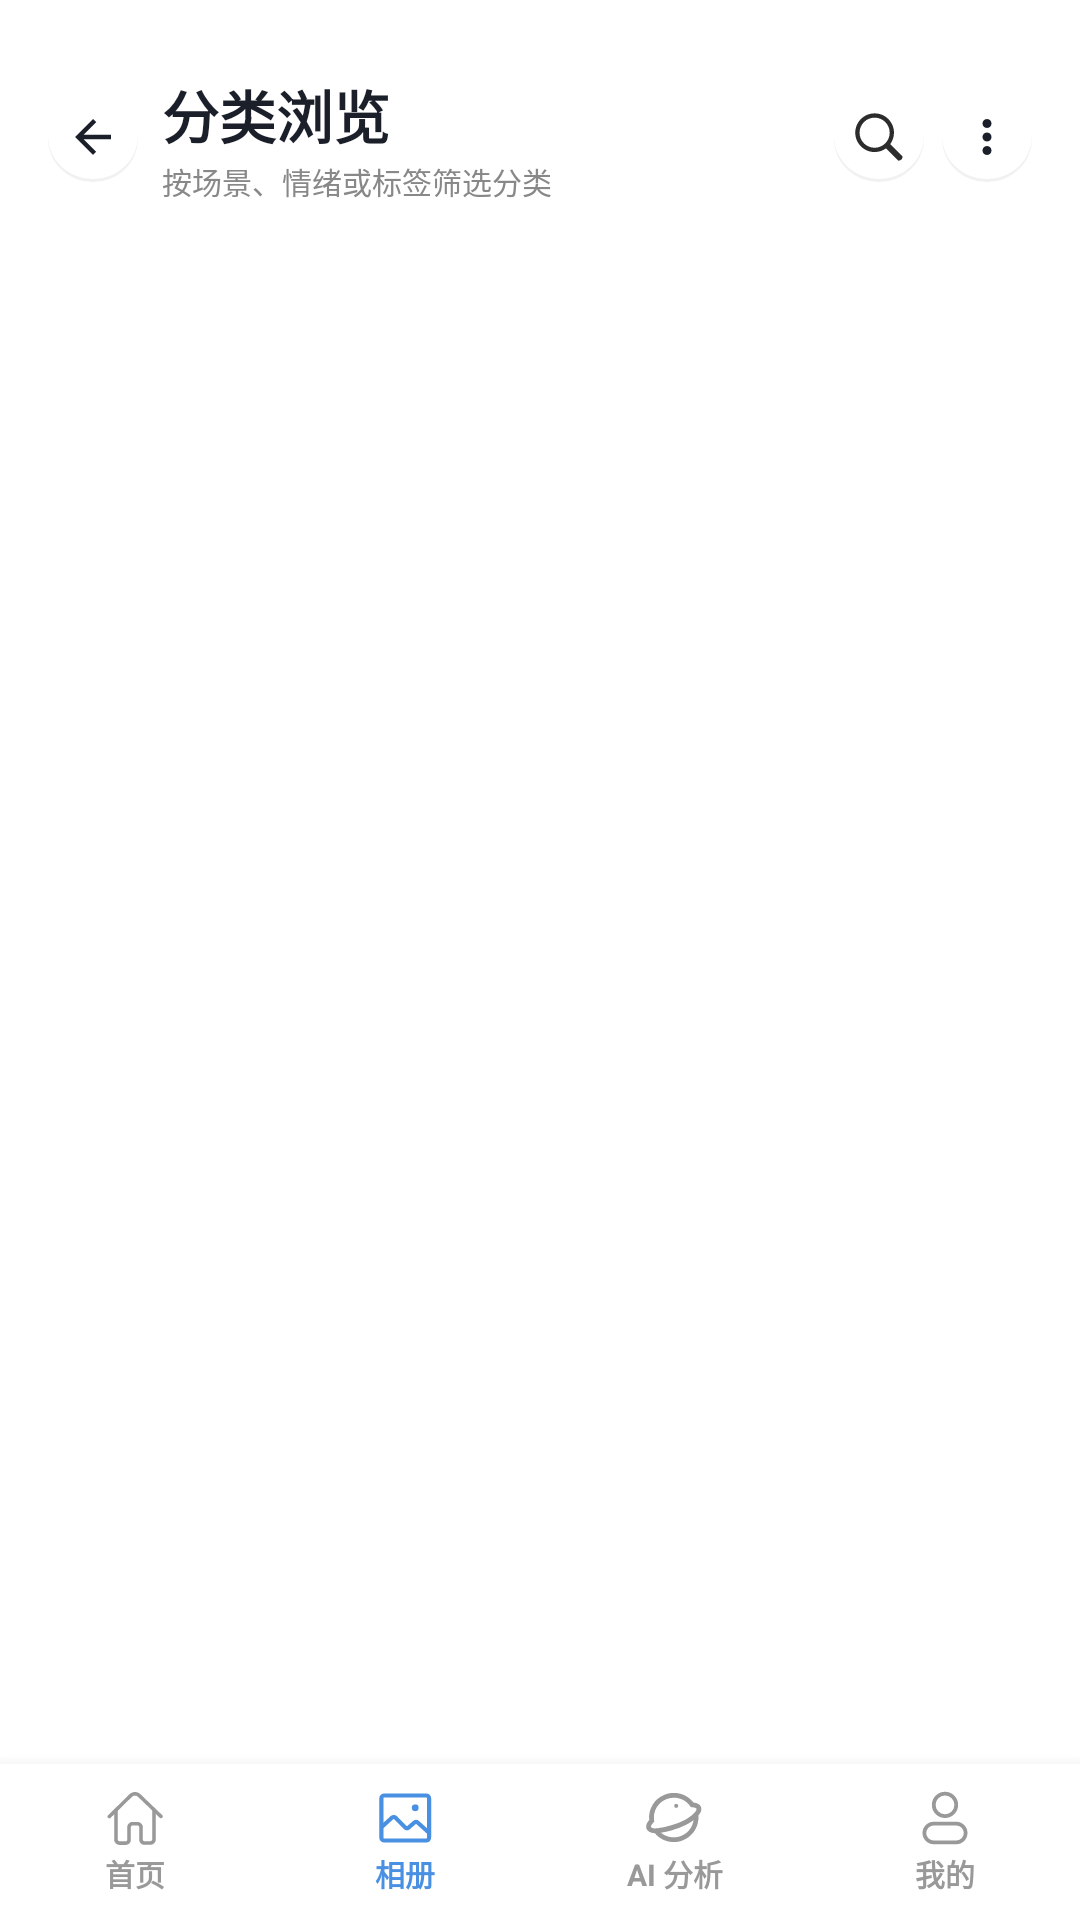

Icon click points for this 1080*1920 phone screenshot, format (x,y):
AI 发现: (674,1817)
搜索: (879,137)
更多: (987,137)
返回: (93,137)
